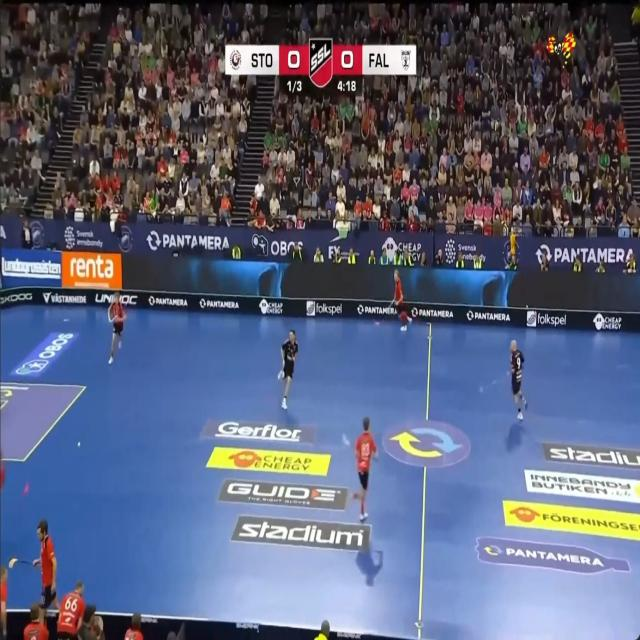Balls: (77, 442, 80, 447)
player: (33, 519, 57, 621), (353, 417, 376, 521), (56, 581, 85, 639), (278, 330, 297, 409), (510, 339, 526, 420), (392, 269, 412, 331), (108, 292, 125, 364)
stick: (8, 558, 32, 568)
